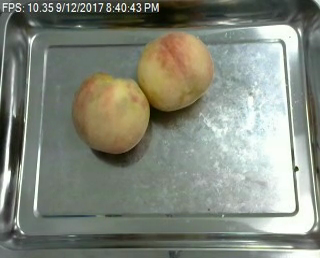Peach: (70, 72, 149, 154), (136, 30, 214, 110)
